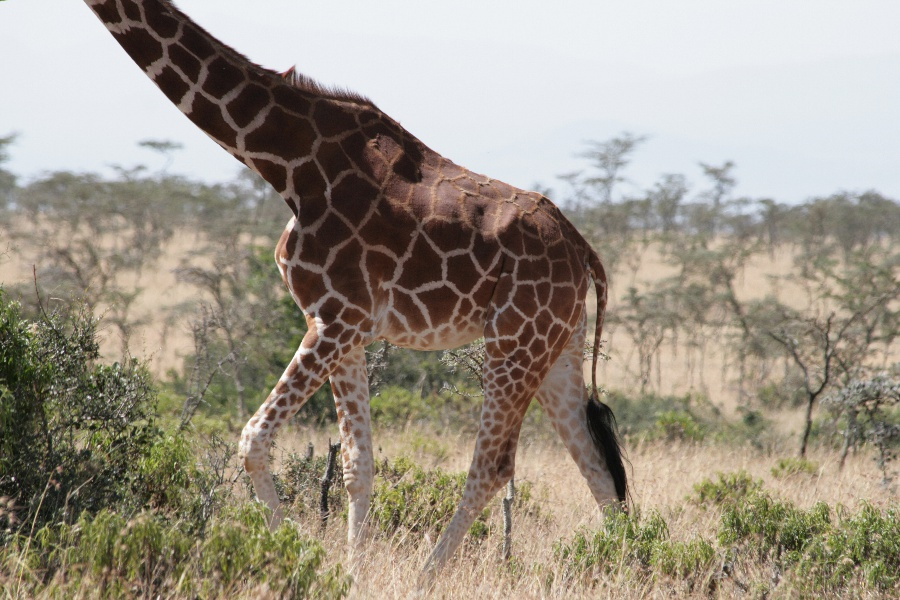giraffe: (75, 0, 656, 582)
